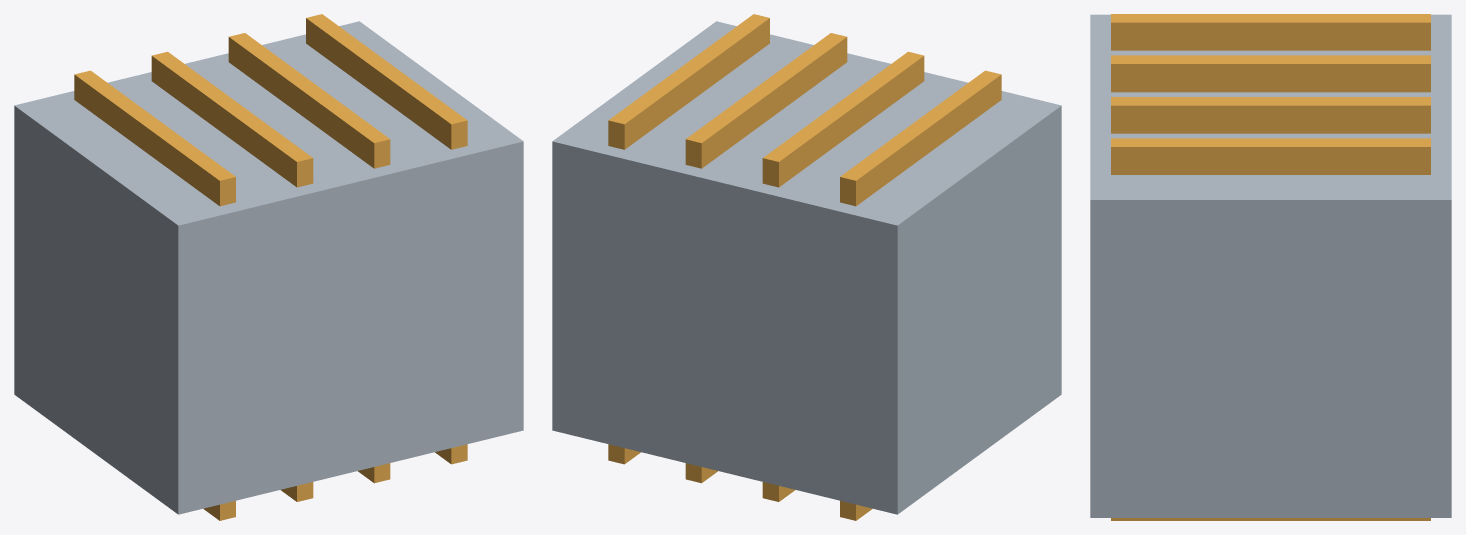
The model's file is thermal-mass.glb.
3 renders of one model, left to right at view 1: azimuth 30°, elevation 25°; view 2: azimuth 150°, elevation 25°; view 3: azimuth 270°, elevation 25°, orthographic. The views are drawn at different scales.
Size of the model in its own units: 0.85 by 0.8 by 0.7.
